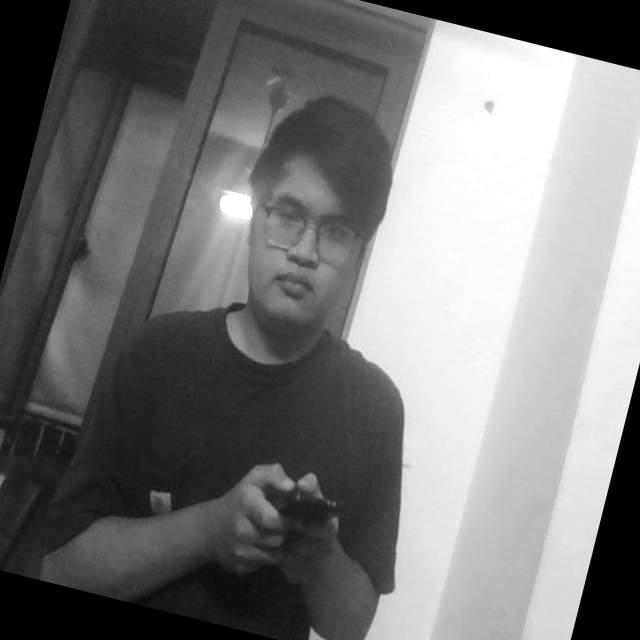phone: (235, 454, 352, 556)
